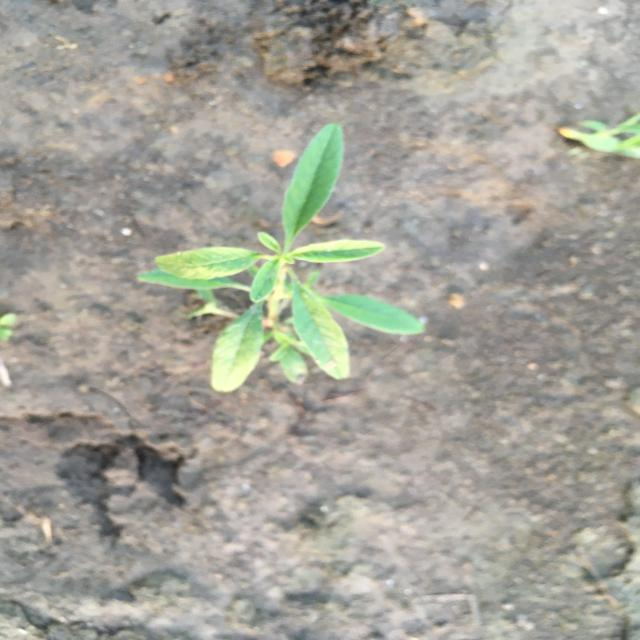Waterhemp: (133, 123, 428, 394)
